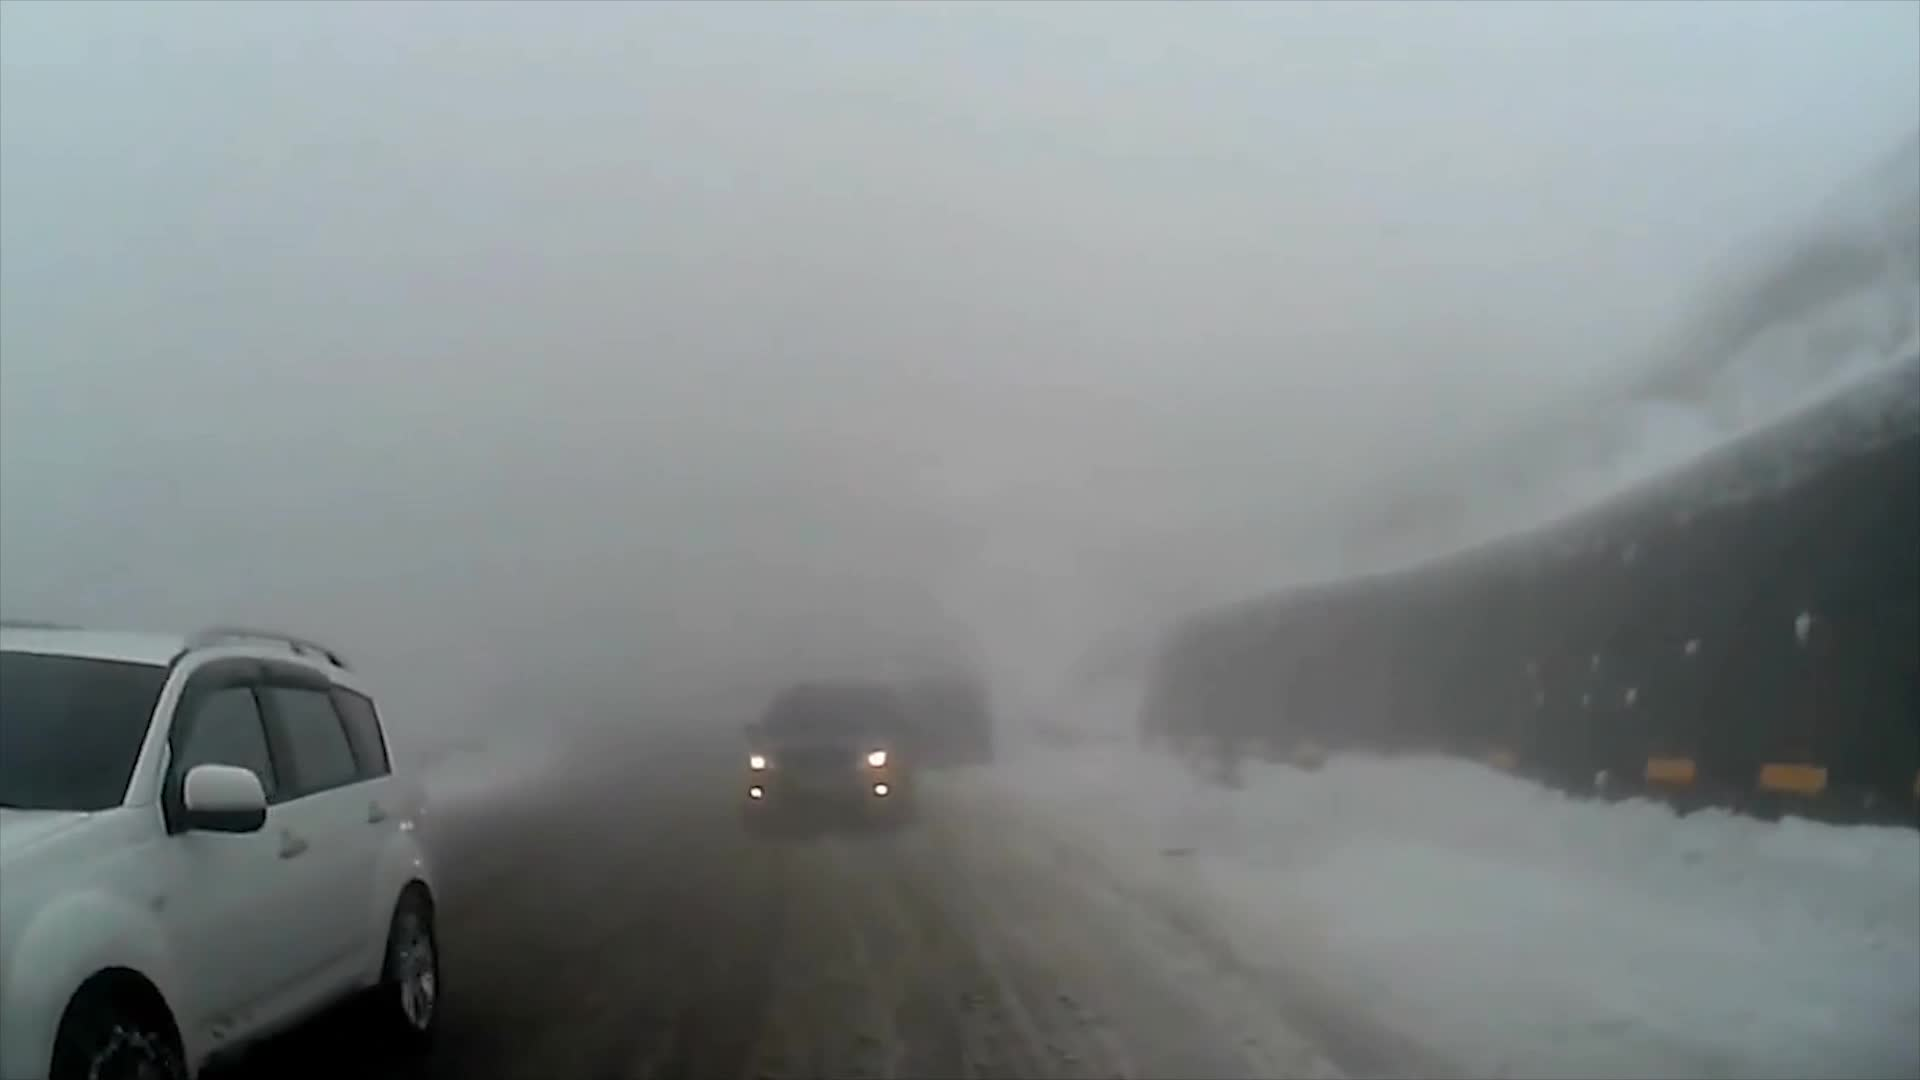vehicle: (0, 617, 446, 1080), (738, 678, 920, 837)
